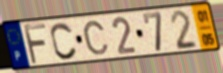2: (170, 9, 199, 52), (111, 15, 138, 56)
7: (141, 10, 164, 54)
C: (49, 21, 79, 62), (82, 19, 111, 57)
F: (21, 22, 49, 66)
